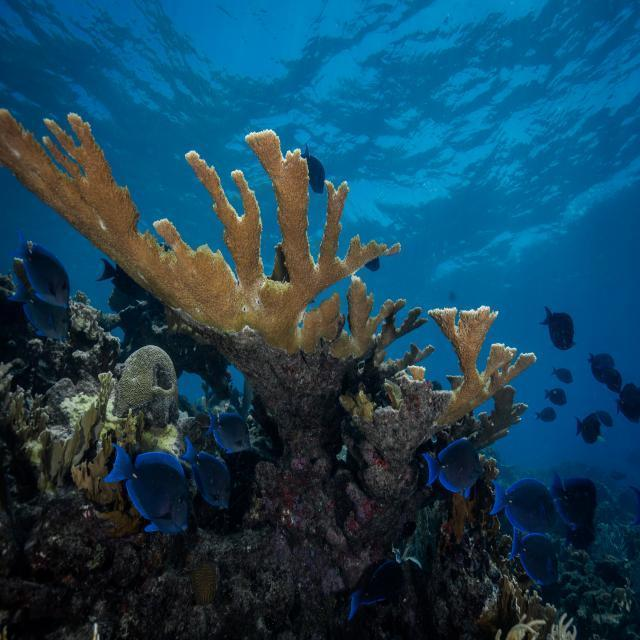Dead Coral: (116, 343, 183, 434)
Healthy Coral: (3, 107, 390, 357), (33, 373, 125, 504), (438, 300, 514, 429)
